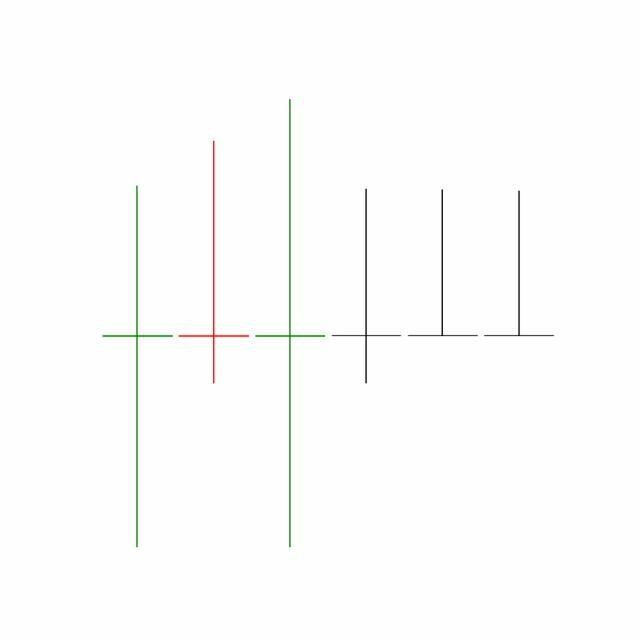Gravestone Doji: (404, 188, 482, 338)
